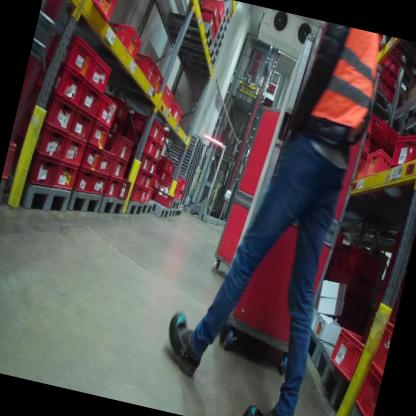pallet: (306, 343, 353, 411), (371, 36, 416, 96), (16, 175, 73, 219), (66, 183, 128, 221), (163, 11, 217, 53), (169, 36, 219, 67), (300, 323, 327, 363), (146, 198, 171, 221), (124, 195, 146, 219), (346, 399, 374, 416), (219, 2, 234, 24), (140, 198, 154, 219), (210, 37, 222, 60), (213, 26, 225, 49), (216, 21, 229, 42), (219, 12, 232, 31), (170, 197, 180, 211), (167, 210, 177, 221)
small_load_carrier: (358, 113, 401, 193), (32, 53, 90, 110), (22, 80, 81, 136), (45, 29, 103, 83), (14, 109, 72, 162), (324, 324, 369, 384), (97, 17, 145, 67), (347, 359, 384, 416), (341, 238, 384, 283), (23, 144, 63, 191), (367, 316, 395, 381), (386, 126, 416, 180), (337, 263, 379, 300), (85, 51, 118, 96), (128, 51, 161, 90), (128, 109, 166, 142), (66, 0, 119, 23), (93, 93, 121, 131), (69, 106, 97, 142), (85, 114, 113, 150), (104, 129, 134, 162), (78, 82, 105, 118), (62, 134, 91, 167), (377, 46, 406, 78), (2, 135, 21, 182), (374, 61, 403, 90), (374, 80, 403, 108), (188, 6, 218, 31), (55, 160, 78, 192), (72, 168, 97, 197), (81, 141, 104, 172), (191, 0, 223, 22), (95, 148, 117, 180), (110, 153, 132, 184), (164, 168, 190, 192), (147, 71, 167, 102), (108, 97, 133, 121), (165, 96, 186, 124), (156, 84, 175, 113), (149, 187, 174, 208), (104, 174, 124, 200), (87, 176, 109, 197), (359, 135, 375, 162), (161, 184, 185, 201), (117, 177, 133, 202), (133, 165, 149, 189), (143, 135, 157, 159), (127, 183, 144, 202), (143, 173, 160, 191), (157, 125, 172, 145), (152, 142, 167, 161), (139, 153, 152, 172), (148, 158, 159, 175), (217, 1, 226, 20), (158, 169, 171, 181), (210, 23, 219, 40), (213, 16, 221, 31), (140, 188, 148, 203)
